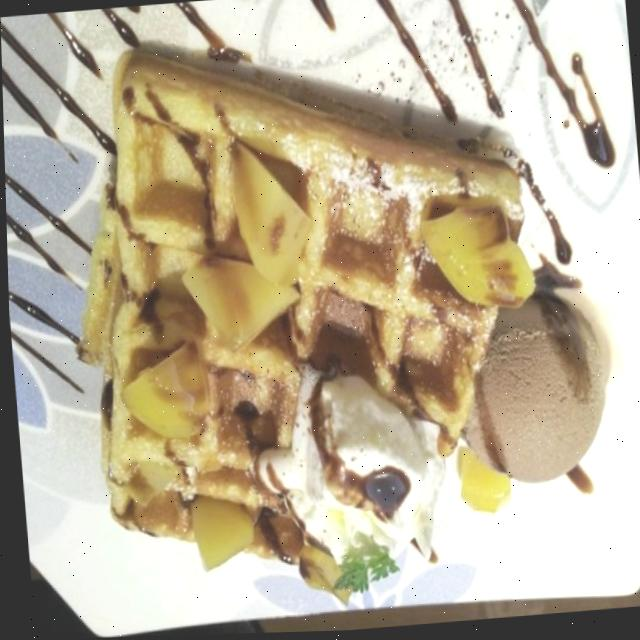炸货点心: (1, 7, 640, 632)
蛋糕甜品: (1, 7, 640, 632)
